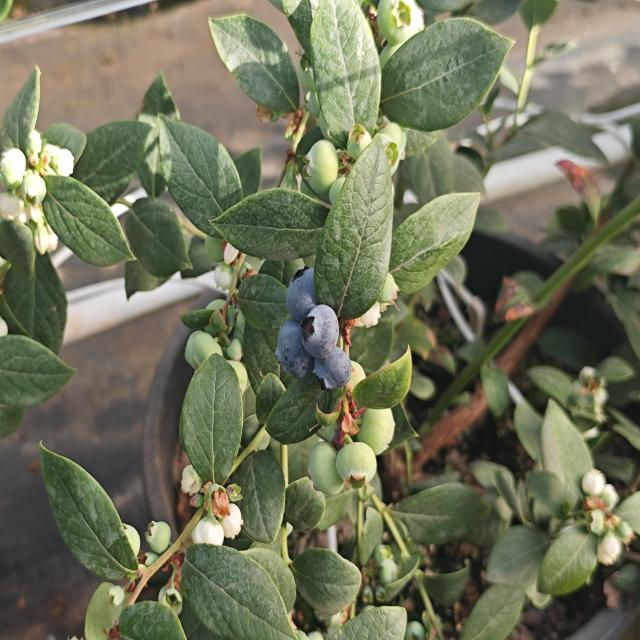ripe: (278, 261, 332, 322), (269, 321, 313, 384), (296, 298, 342, 356), (308, 346, 356, 395)
